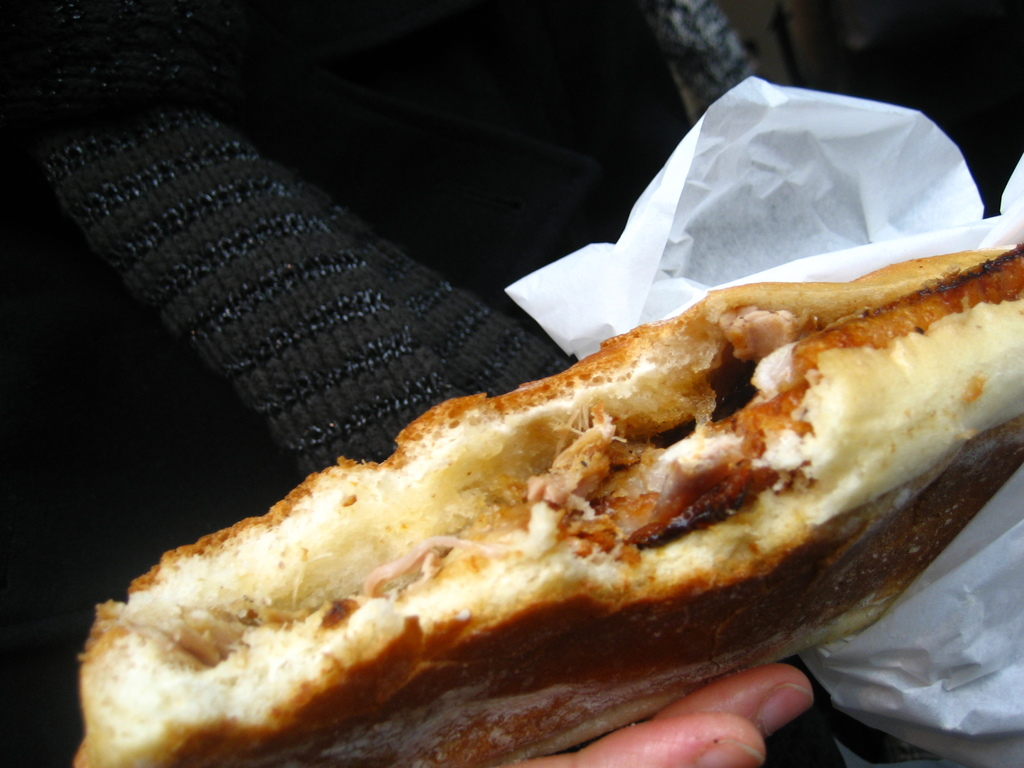sandwich: (73, 239, 1023, 767)
